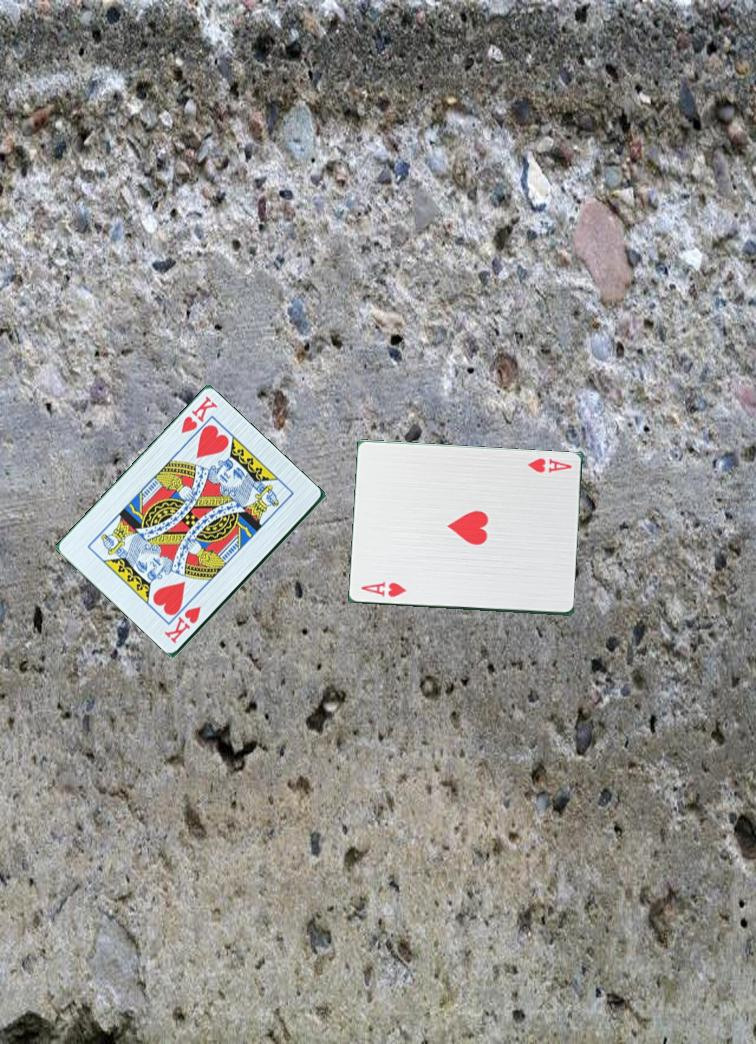ah: (358, 578, 409, 600), (525, 454, 575, 476)
kh: (177, 393, 221, 437), (162, 601, 204, 647)
